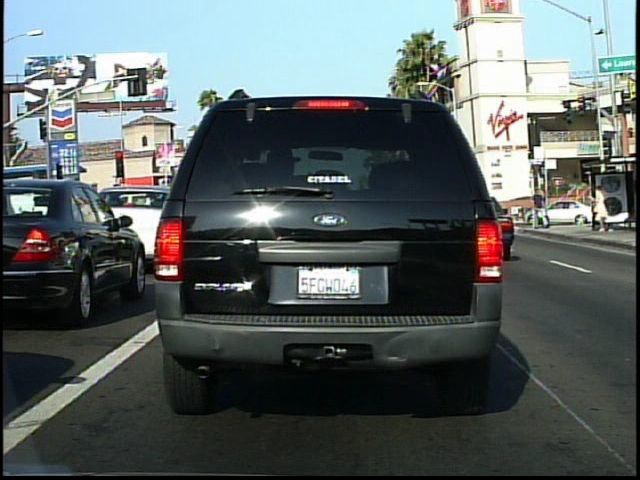person: (589, 183, 613, 234), (530, 186, 550, 233)
